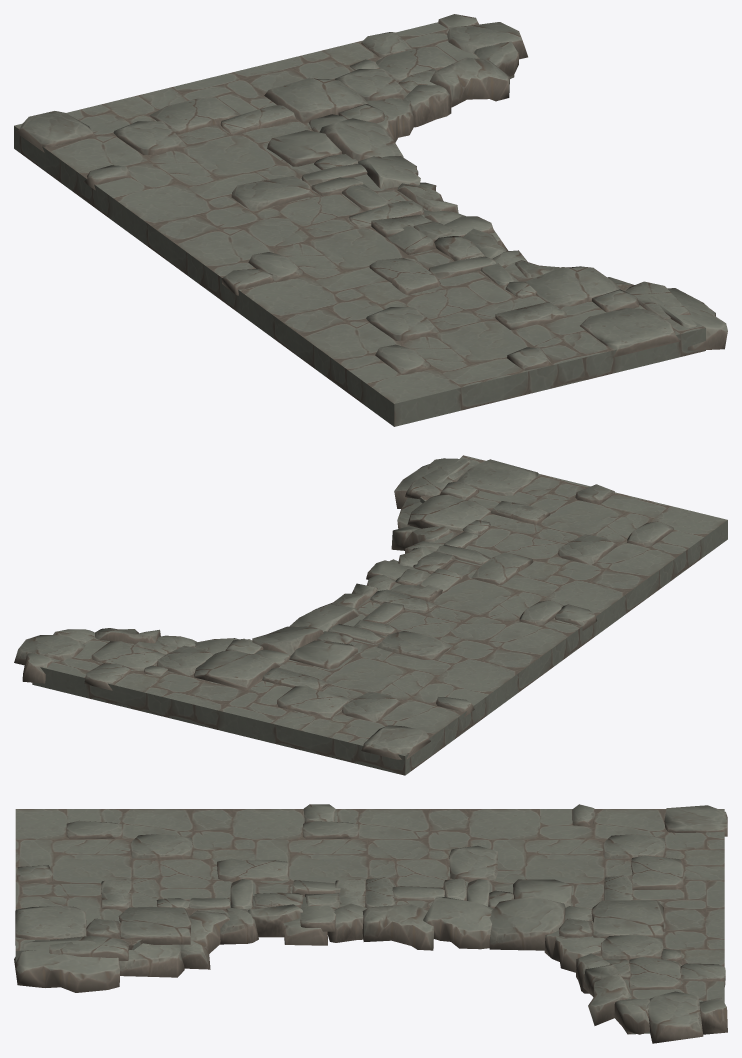
Rendered from SM_FW01_Ruins_Int_Floor_6x6_Brkn_02.fbx.
The picture shows the model from 3 angles, top to bottom: view 1: azimuth 30°, elevation 25°; view 2: azimuth 150°, elevation 25°; view 3: azimuth 270°, elevation 25°; orthographic projection. The views are drawn at different scales.
Visible parts, largest first — view 1: SM_FW01_Ruins_Int_Floor_6x6_Brkn_02, SM_FW01_Ruins_Int_Floor_6x6_Brkn_02_LOD0; view 2: SM_FW01_Ruins_Int_Floor_6x6_Brkn_02, SM_FW01_Ruins_Int_Floor_6x6_Brkn_02_LOD0; view 3: SM_FW01_Ruins_Int_Floor_6x6_Brkn_02_LOD0, SM_FW01_Ruins_Int_Floor_6x6_Brkn_02.
Part boxes in pixels (x1,y1,x2,y2): SM_FW01_Ruins_Int_Floor_6x6_Brkn_02: [14, 22, 705, 426]; SM_FW01_Ruins_Int_Floor_6x6_Brkn_02_LOD0: [15, 14, 727, 374]; SM_FW01_Ruins_Int_Floor_6x6_Brkn_02: [32, 455, 727, 775]; SM_FW01_Ruins_Int_Floor_6x6_Brkn_02_LOD0: [14, 458, 673, 759]; SM_FW01_Ruins_Int_Floor_6x6_Brkn_02_LOD0: [14, 804, 727, 1043]; SM_FW01_Ruins_Int_Floor_6x6_Brkn_02: [15, 809, 724, 1034].
Size of what is drawn, in the model's own units: 4.35 by 0.4181 by 6.04.
